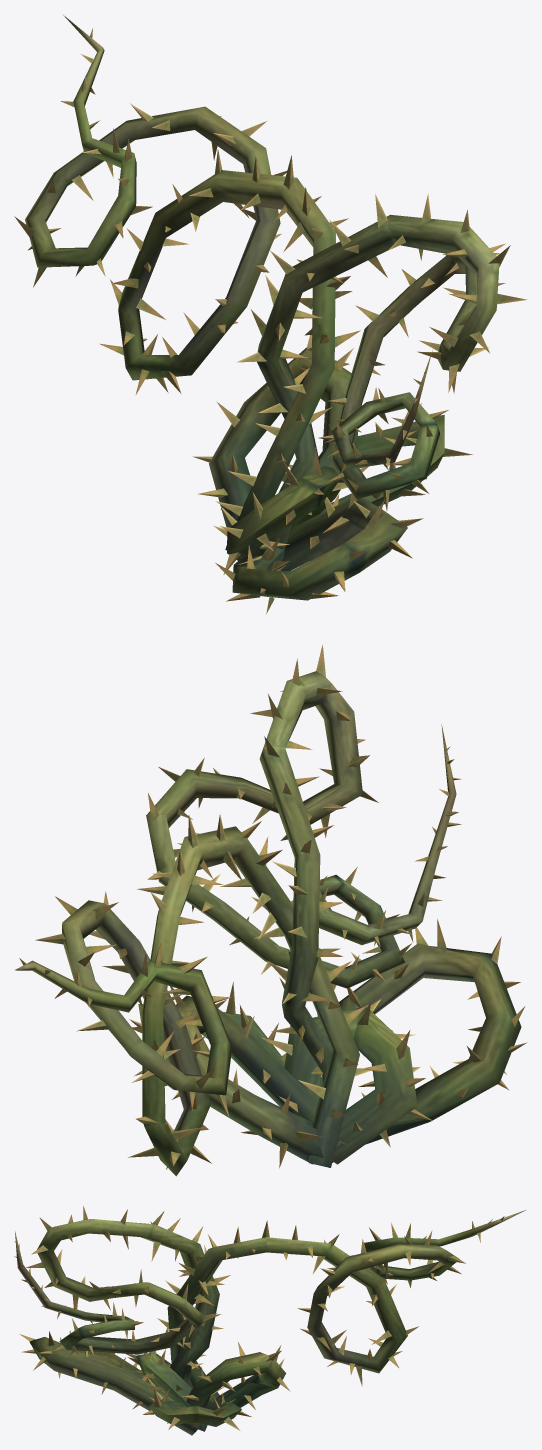
The model's file is Yland1_Zb_06_Yland1.FBX.
3 renders of one model, top to bottom at view 1: azimuth 30°, elevation 25°; view 2: azimuth 150°, elevation 25°; view 3: azimuth 270°, elevation 25°, orthographic. The views are drawn at different scales.
Parts seen in each view (by area): view 1: Yland1_Zb_06_Yland1; view 2: Yland1_Zb_06_Yland1; view 3: Yland1_Zb_06_Yland1.
Part boxes in pixels (x1=…): Yland1_Zb_06_Yland1: x1=14, y1=15, x2=527, y2=614; Yland1_Zb_06_Yland1: x1=15, y1=644, x2=527, y2=1176; Yland1_Zb_06_Yland1: x1=14, y1=1206, x2=525, y2=1435.
Bounding box in the file's own units: 1.58 × 1.95 × 3.46.
